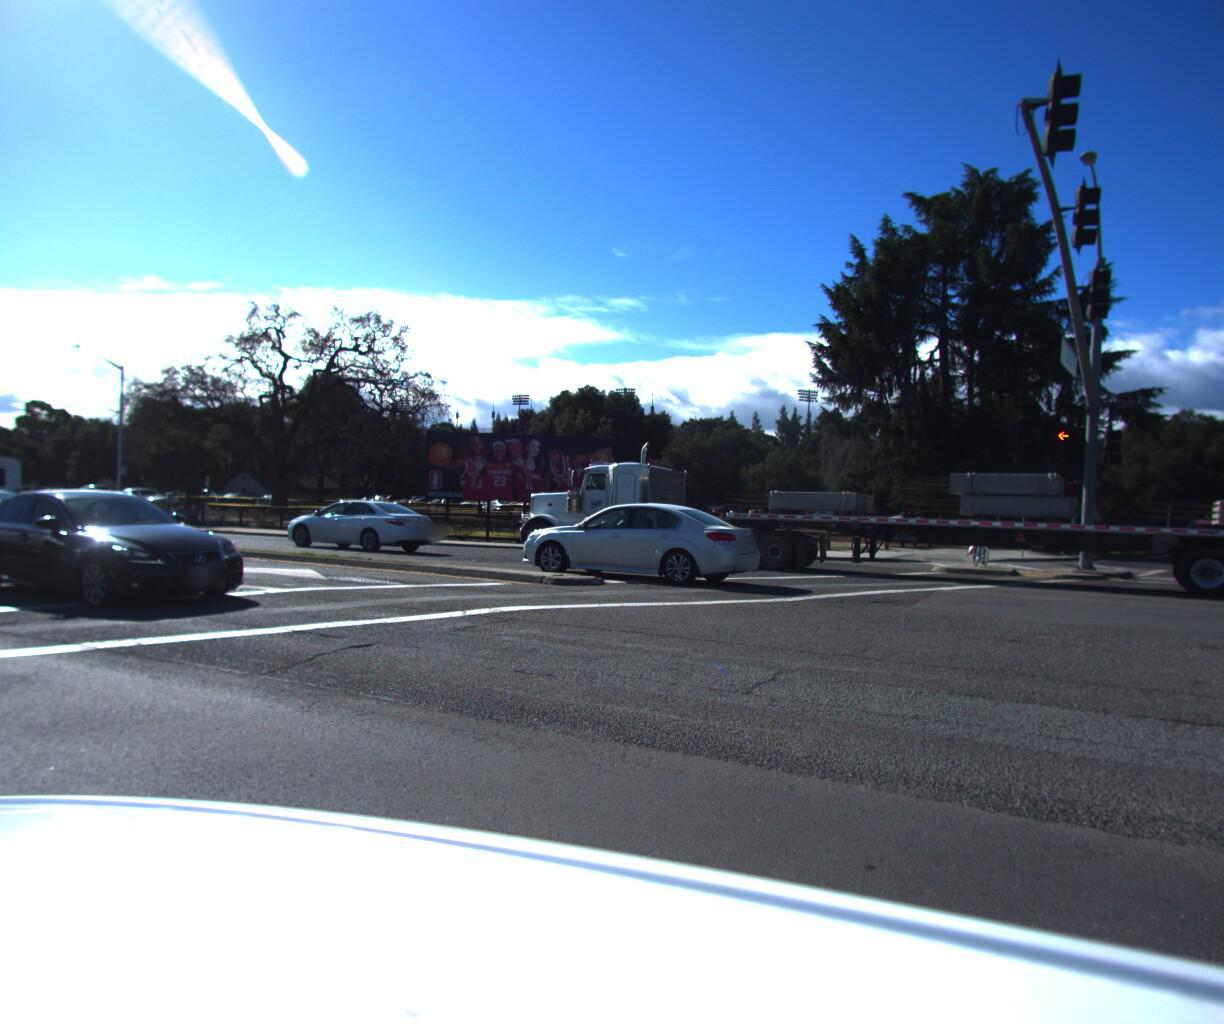bicycle: (963, 509, 1002, 562)
bus: (0, 450, 20, 522)
car: (0, 484, 250, 618), (509, 495, 767, 586), (274, 489, 444, 549), (1156, 509, 1224, 578), (0, 483, 38, 527)
truck: (501, 447, 1224, 661)
